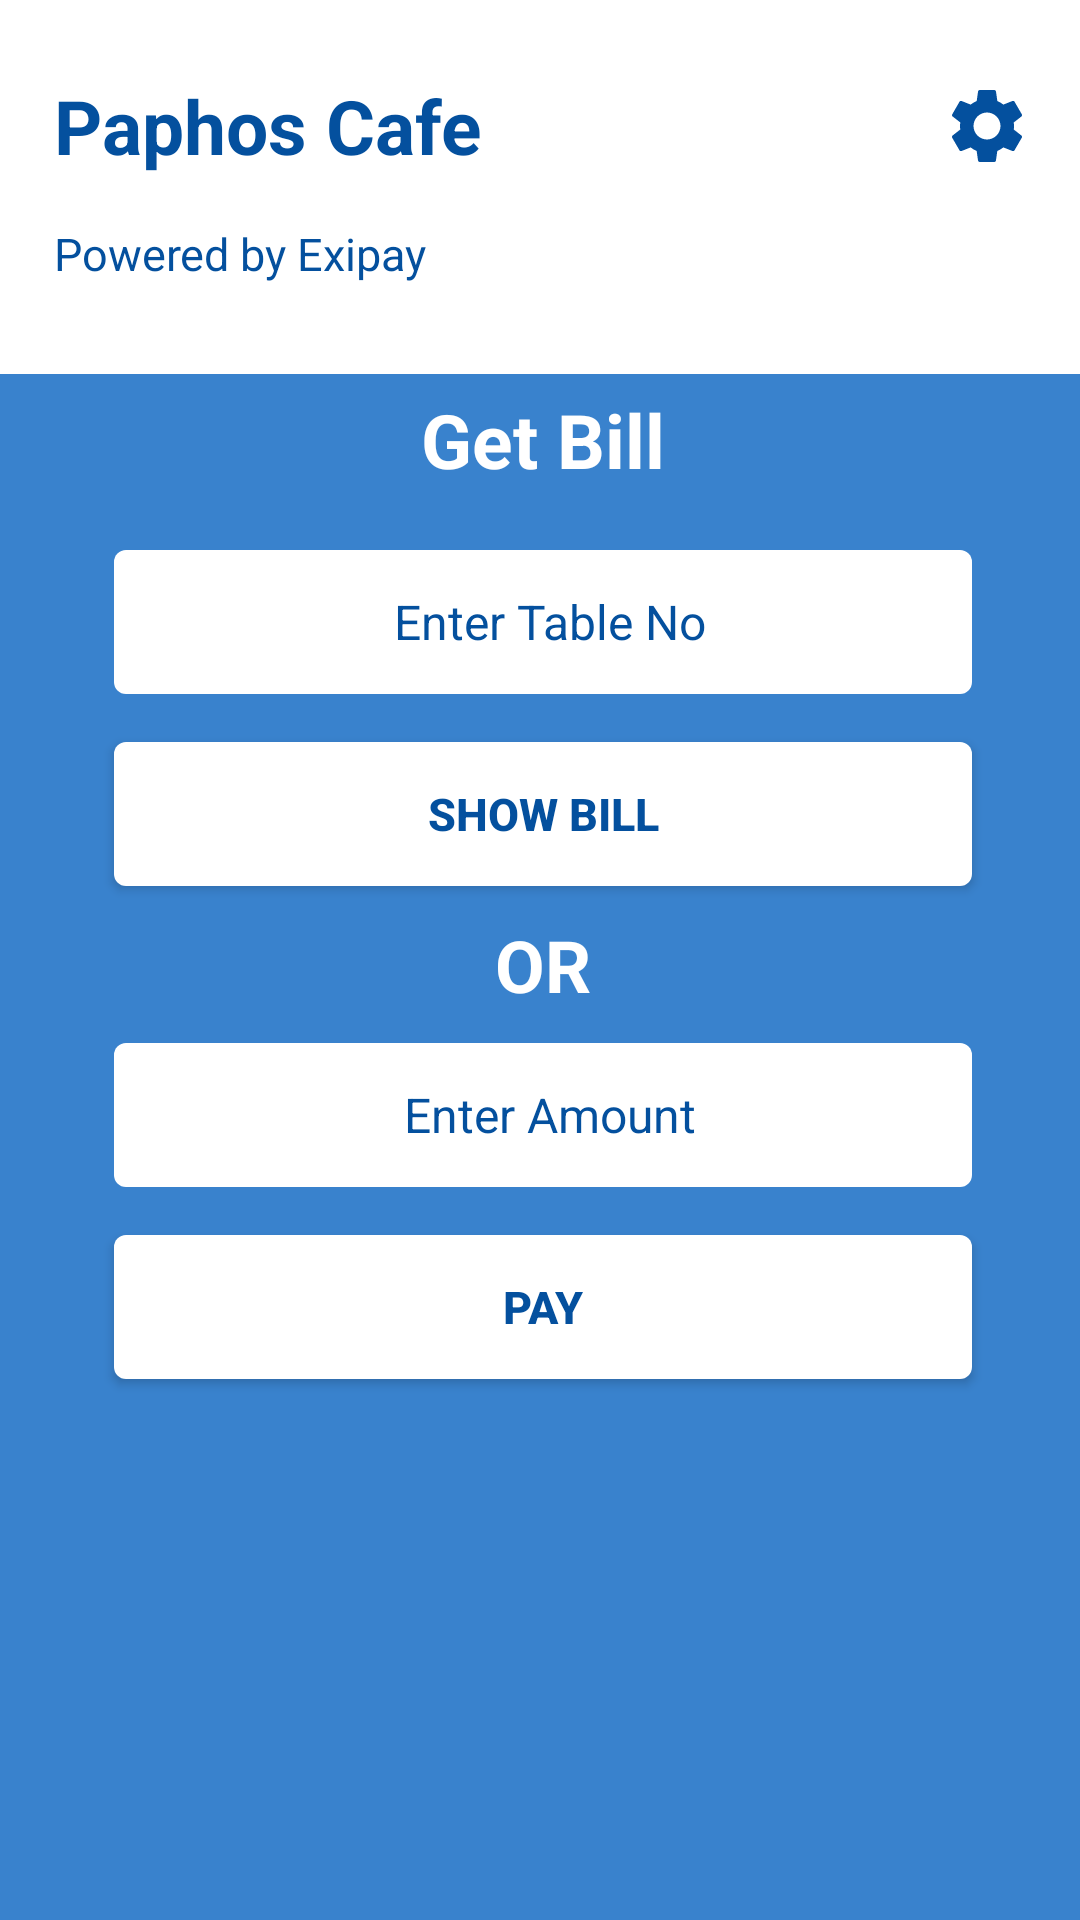

Named icons in this screenshot (1080 × 1920) and their centers, (x=x, y=y):
settings: (x=987, y=126)
